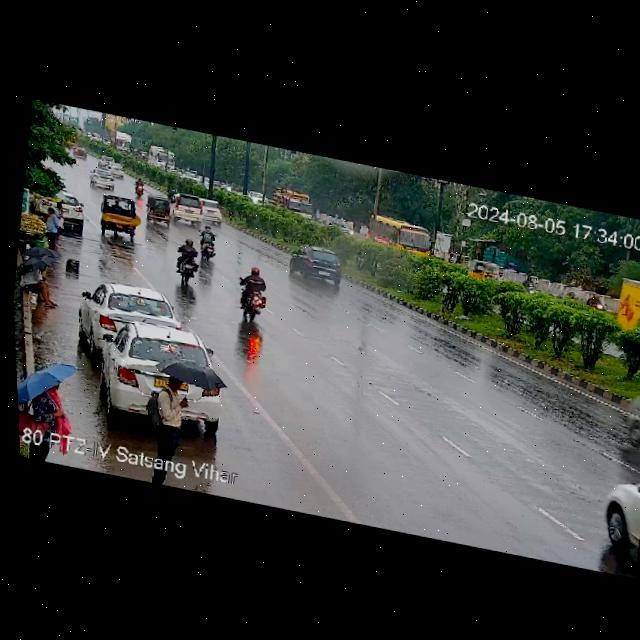bus: (369, 213, 435, 259)
car: (77, 312, 233, 437), (77, 277, 186, 354), (597, 466, 640, 572), (286, 242, 346, 290), (40, 190, 95, 234), (93, 192, 144, 238), (173, 193, 230, 230), (466, 259, 506, 285), (145, 197, 178, 226), (323, 215, 358, 238), (87, 168, 119, 192), (101, 160, 132, 179)
motorcycle: (224, 261, 279, 324), (170, 235, 210, 285), (196, 223, 225, 260), (584, 290, 610, 312), (522, 275, 543, 297), (131, 179, 148, 199)
person: (143, 369, 197, 456), (18, 263, 63, 308), (41, 207, 66, 249)
truck: (608, 271, 640, 341), (270, 185, 317, 225)
